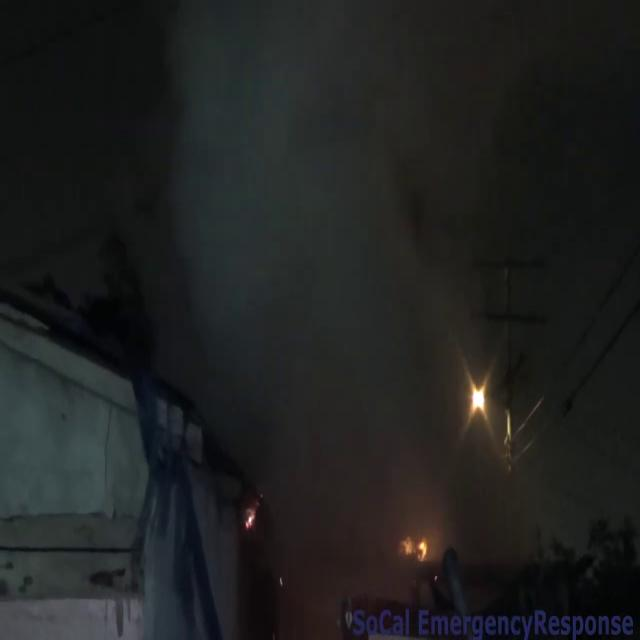Fire: (399, 530, 433, 567), (469, 373, 489, 419)
Smoke: (134, 2, 516, 564)
